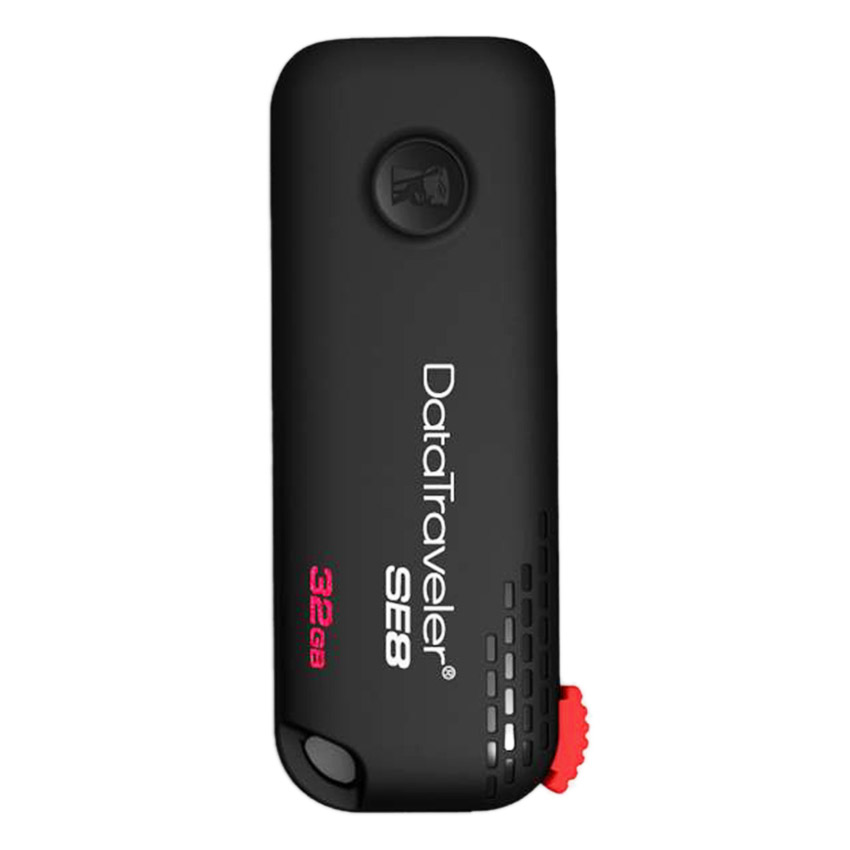Kingston: (382, 156, 460, 221)
